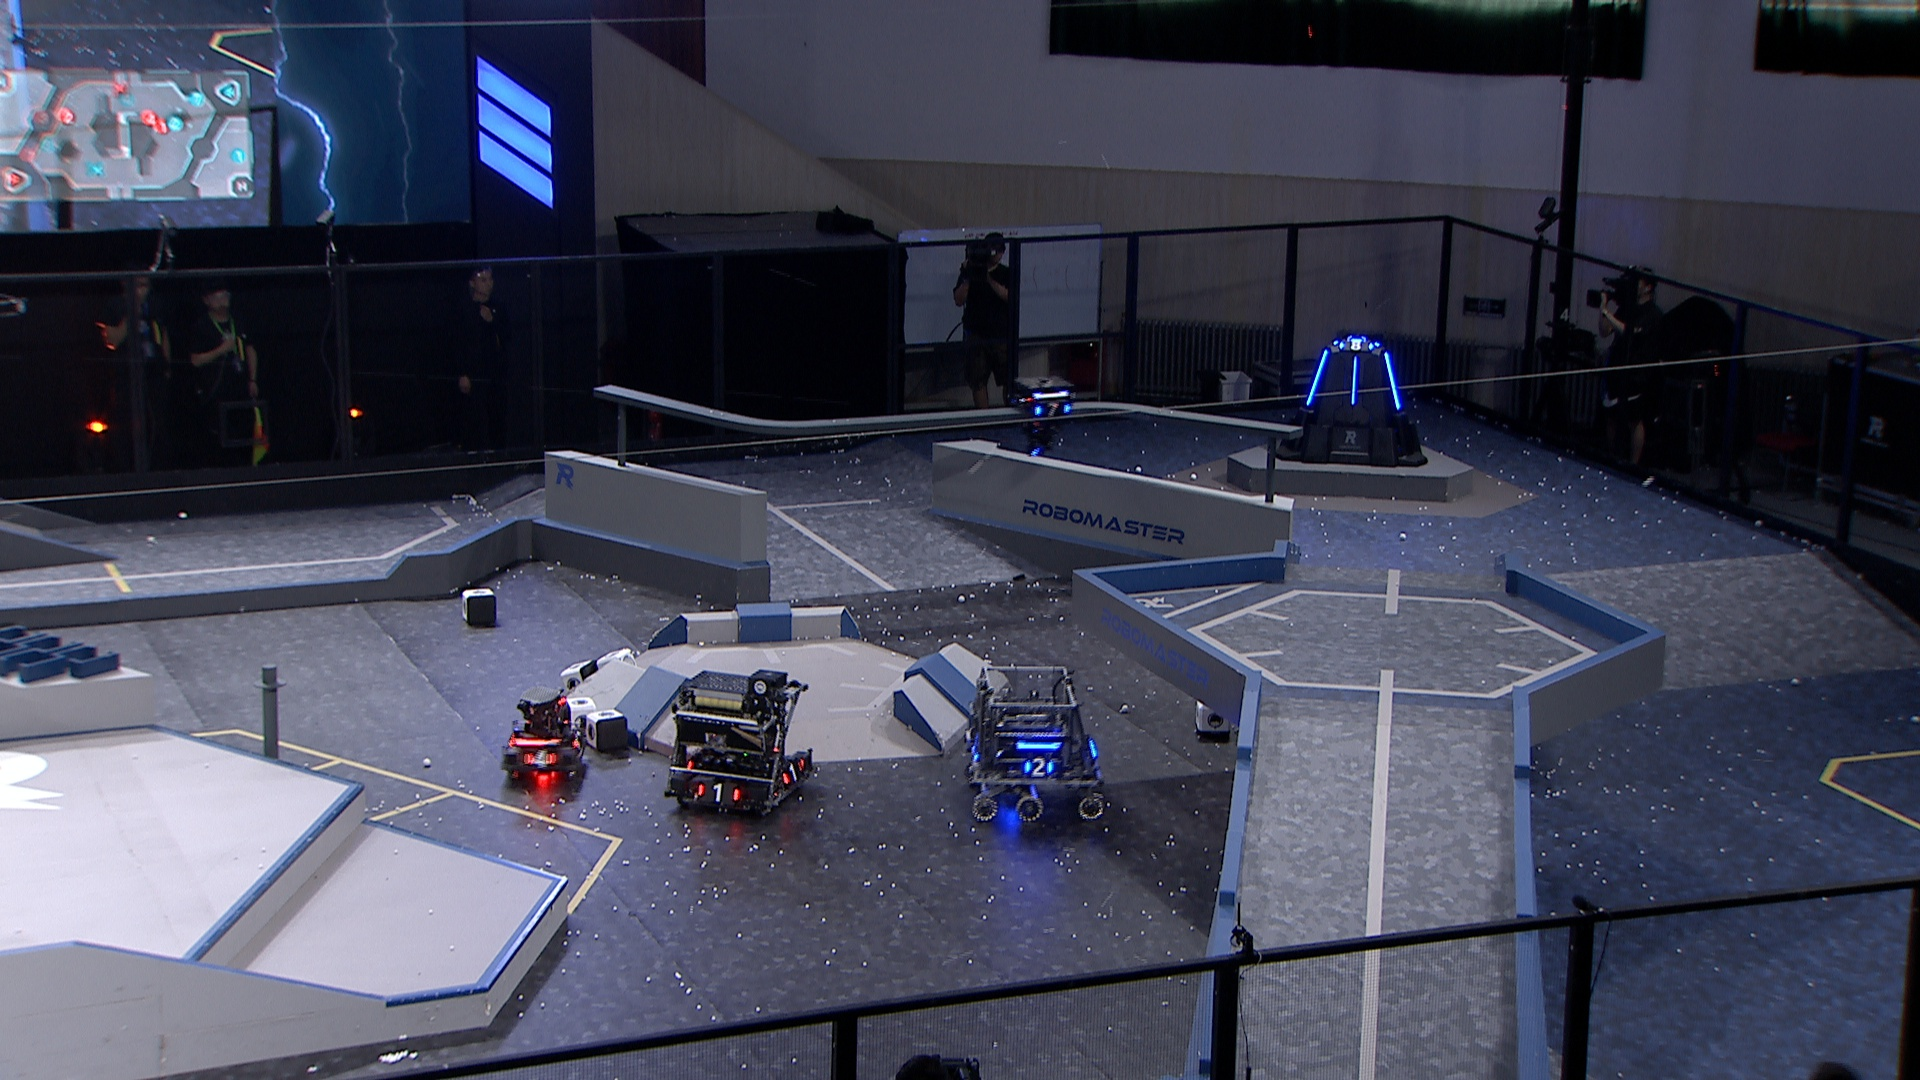armor: (1304, 348, 1331, 409), (1381, 348, 1403, 413), (694, 782, 742, 804), (524, 746, 558, 773), (1021, 757, 1054, 779), (1031, 401, 1073, 418), (781, 760, 806, 787), (1349, 353, 1361, 406), (1337, 338, 1375, 353)
base: (1273, 334, 1429, 469)
car: (661, 669, 814, 823), (963, 665, 1109, 825), (495, 688, 589, 783)
watcher: (1011, 372, 1073, 458)
